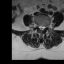CCS_normal: (40, 23, 42, 32)
LFS_normal: (45, 24, 47, 29)
LLS_normal: (42, 24, 44, 30)
RFS_normal: (36, 23, 39, 29)
RLS_normal: (38, 24, 40, 30)
